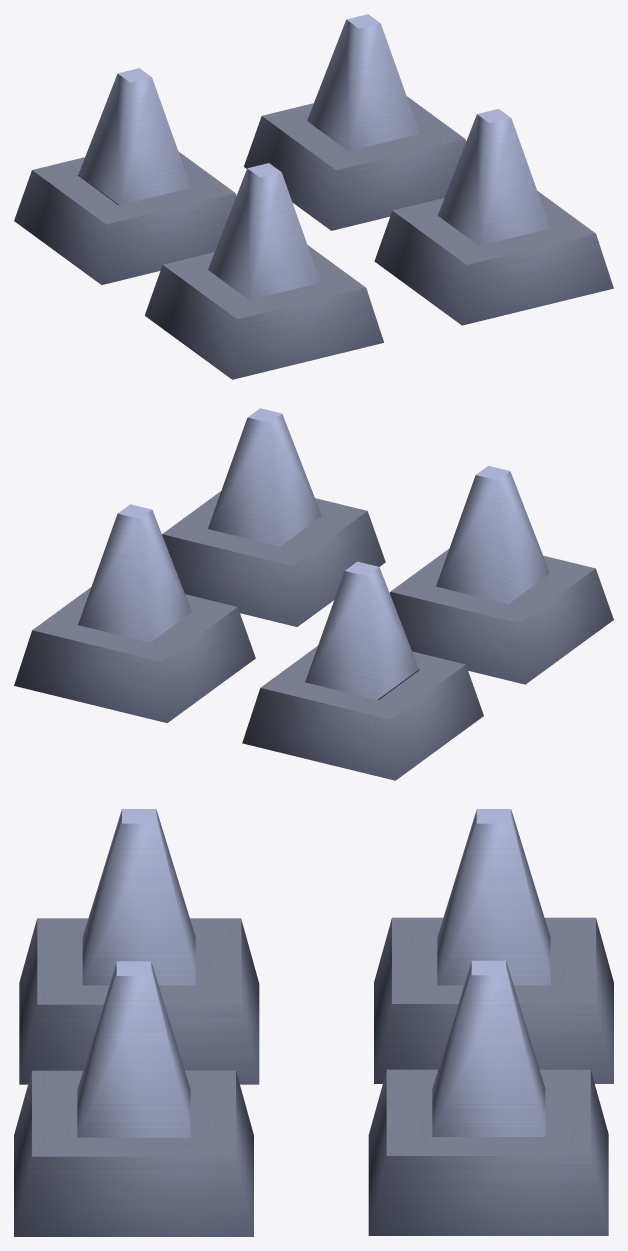
Rendered from trap.glb.
3 views of the same model, one above another, from view 1: azimuth 30°, elevation 25°; view 2: azimuth 150°, elevation 25°; view 3: azimuth 270°, elevation 25° (orthographic). The views are drawn at different scales.
Parts seen in each view (by area): view 1: trap, spikes; view 2: trap, spikes; view 3: trap, spikes.
Part boxes in pixels (x1=…): trap: x1=14, y1=96, x2=613, y2=379; spikes: x1=78, y1=14, x2=550, y2=299; trap: x1=14, y1=491, x2=613, y2=780; spikes: x1=78, y1=408, x2=549, y2=699; trap: x1=14, y1=917, x2=613, y2=1236; spikes: x1=77, y1=809, x2=550, y2=1137.
Bounding box in the file's own units: 0.6392 × 0.255 × 0.6375.
Materials: 1 (1 with a texture image).
